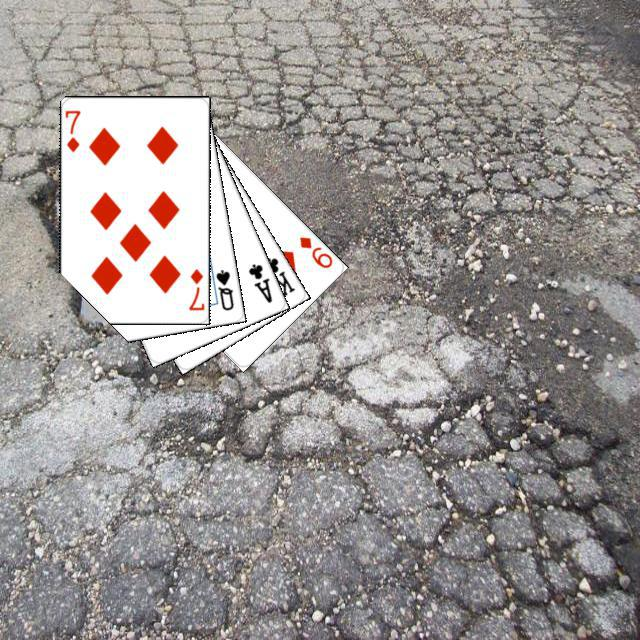7d: (184, 264, 204, 312), (62, 105, 82, 153)
9d: (294, 232, 334, 270)
Ac: (243, 259, 274, 305)
Kc: (252, 253, 297, 299)
Qs: (211, 265, 235, 312)
